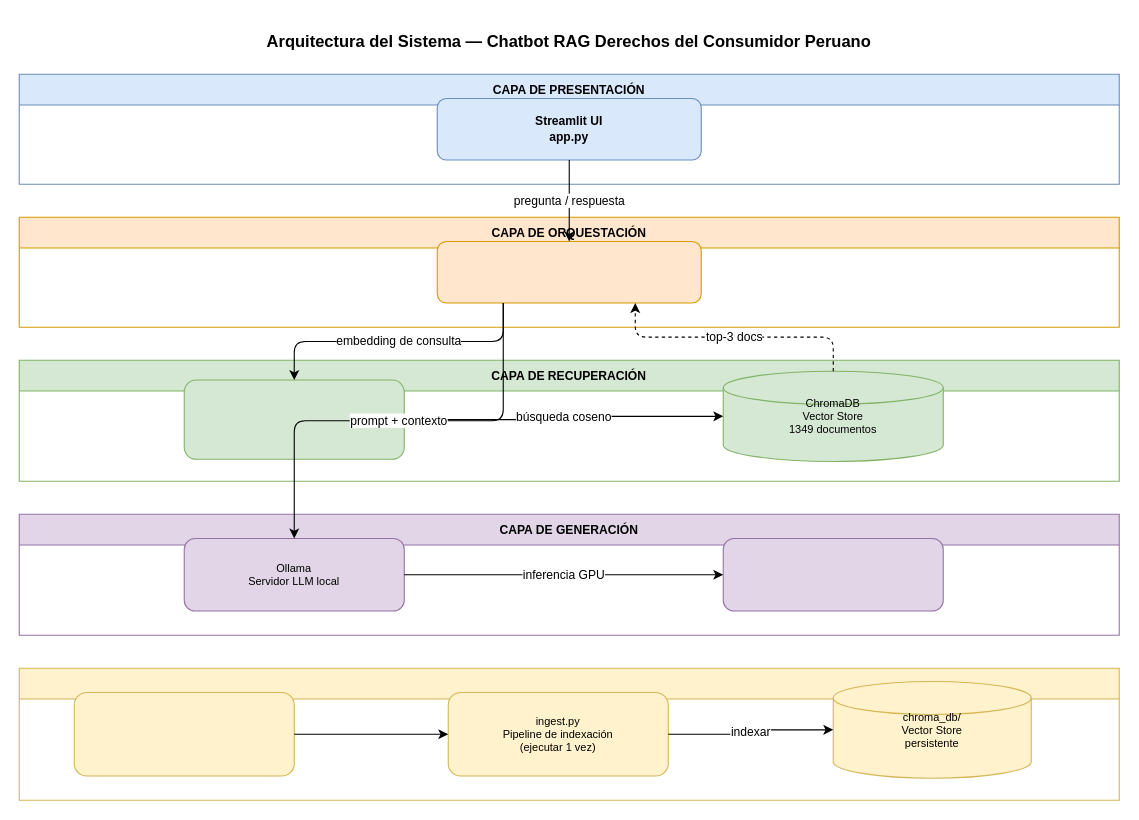
This 1139x820 diagram has some shape labels left out. The box of each missing label's shape, as (x1, y1, x2, y2) in pixels:
CAPA DE DATOS (indexación offline): (18, 667, 1119, 800)
Embeddings MiniLM-L12-v2 384 dimensiones: (183, 379, 404, 459)
final_json/ 28 archivos JSON leyes · normas · informes: (73, 691, 294, 776)
LangChain rag_chain.py: (436, 240, 701, 303)
Mistral 7B Instruct RTX 4080 · CUDA ~5 GB VRAM: (722, 537, 943, 611)
